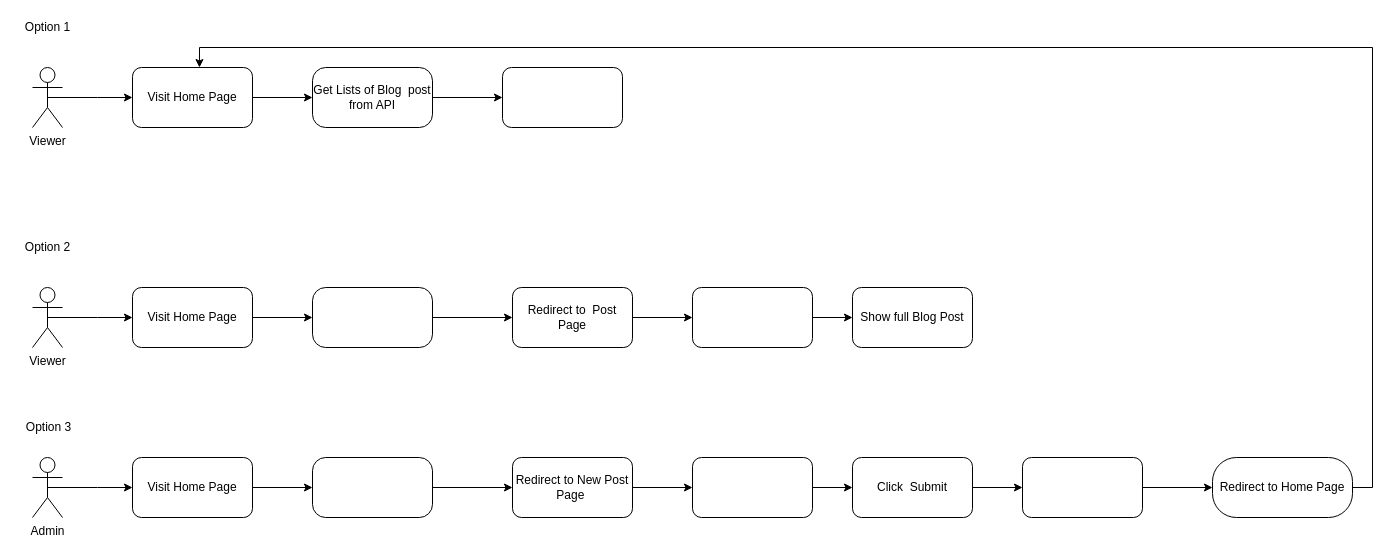
Image size: 1398x555. Some labels were removed from this diagram. The shapes that lost their labels are listed below. From the top down, each one's box as (x1, y1, x2, y2) in pixels, then its label:
(502, 66, 622, 128): Show the List of Blog on the Home Page
(312, 286, 432, 348): Select Individual Blog Post
(692, 286, 812, 348): Get Individual Blog Post data from API
(312, 456, 432, 518): Click Add
(692, 456, 812, 518): Fills in "Title", "Content", and "Covber Image"
(1022, 456, 1142, 518): Add new Blog Post to database
